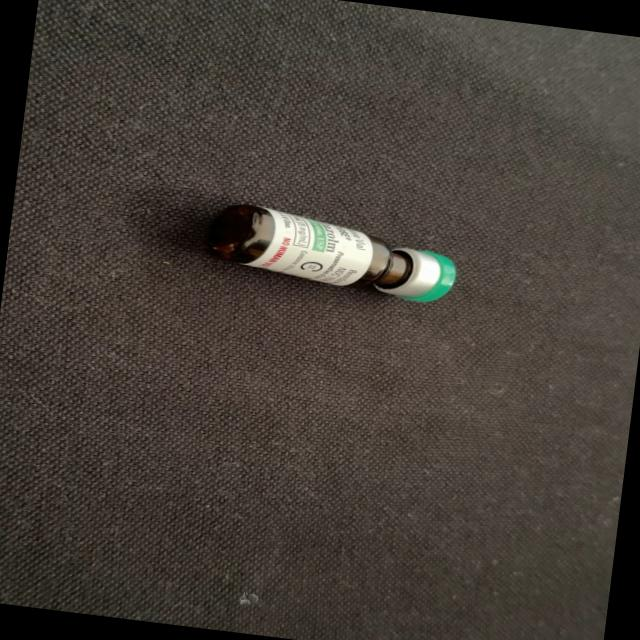midazolm: (207, 202, 456, 304)
